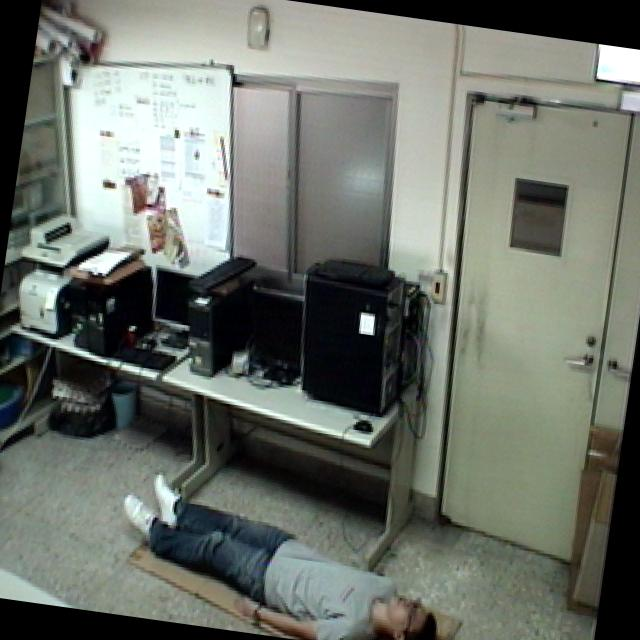lie: (101, 453, 462, 640)
